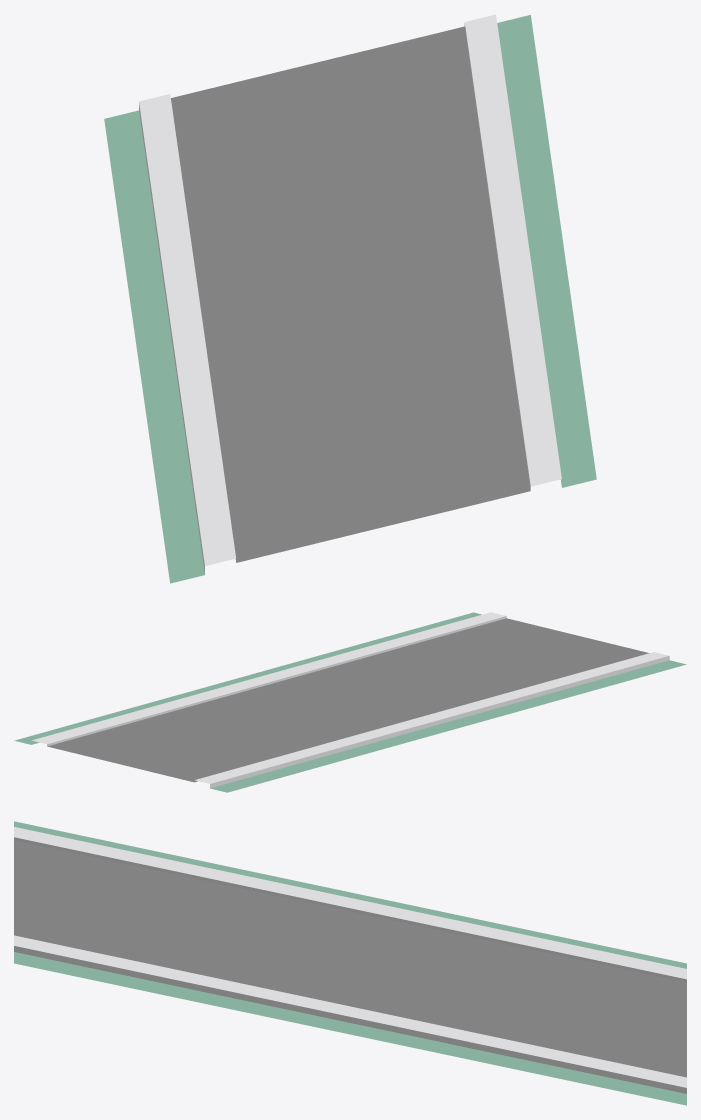
Rendered from roadStraightSkew.glb.
The picture shows the model from 3 angles, top to bottom: view 1: azimuth 30°, elevation 25°; view 2: azimuth 150°, elevation 25°; view 3: azimuth 270°, elevation 25°; orthographic projection. The views are drawn at different scales.
Visible parts, largest first — view 1: roadStraightSkew(Clone); view 2: roadStraightSkew(Clone); view 3: roadStraightSkew(Clone).
Part boxes in pixels (bbox=[...]): roadStraightSkew(Clone): bbox=[104, 14, 596, 583]; roadStraightSkew(Clone): bbox=[14, 612, 686, 792]; roadStraightSkew(Clone): bbox=[14, 821, 686, 1105].
Bounding box in the file's own units: 2 × 0.02 × 2.
